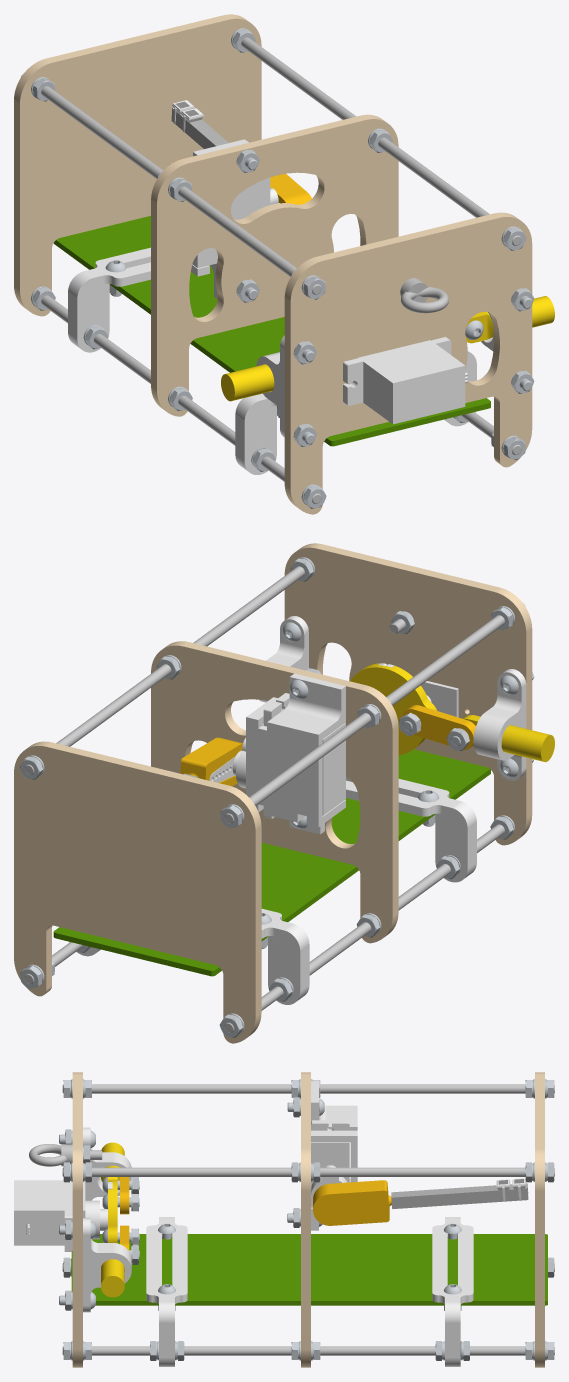
File: payload.gltf
The picture shows the model from 3 angles, top to bottom: view 1: azimuth 30°, elevation 25°; view 2: azimuth 150°, elevation 25°; view 3: azimuth 270°, elevation 25°; orthographic projection. The views are drawn at different scales.
Visible parts, largest first — view 1: Bottom Plate, Top Plate, Middle Plate, Corps principal (×2), PCB, Rod (×3), PCBMount V3 (×2), Release (×2), M3 Eye, Guide, Carbon Fiber Rod, Servo Rod Adapter; view 2: Bottom Plate, Top Plate, Middle Plate, PCB, Servo Clamp, Rod (×3), PCBMount V3 (×2), Guide (×2), Corps principal (×2), Base, Servo Rod Adapter, Release (+1 smaller); view 3: PCB, Rod (×3), PCBMount V3 (×2), Corps principal (×2), Top Plate, Servo Rod Adapter, Middle Plate, Bottom Plate, Guide (×2), Carbon Fiber Rod, Servo Clamp, M3 Eye (+3 smaller).
Boxes of the visible parts, left/top/right/bottom form: Bottom Plate: left=14, top=14, right=261, bottom=316; Top Plate: left=284, top=212, right=532, bottom=514; Middle Plate: left=151, top=114, right=398, bottom=416; Corps principal (×2): left=192, top=177, right=467, bottom=424; PCB: left=53, top=216, right=490, bottom=446; Rod (×3): left=41, top=37, right=521, bottom=503; PCBMount V3 (×2): left=68, top=247, right=476, bottom=474; Release (×2): left=221, top=296, right=554, bottom=401; M3 Eye: left=400, top=278, right=448, bottom=313; Guide: left=256, top=335, right=284, bottom=437; Carbon Fiber Rod: left=171, top=108, right=228, bottom=148; Servo Rod Adapter: left=270, top=173, right=311, bottom=204; Bottom Plate: left=14, top=741, right=261, bottom=1043; Top Plate: left=284, top=543, right=532, bottom=845; Middle Plate: left=151, top=641, right=398, bottom=943; PCB: left=53, top=749, right=490, bottom=976; Servo Clamp: left=246, top=673, right=345, bottom=834; Rod (×3): left=24, top=566, right=504, bottom=1032; PCBMount V3 (×2): left=76, top=777, right=476, bottom=1004; Guide (×2): left=259, top=616, right=526, bottom=780; Corps principal (×2): left=236, top=681, right=458, bottom=818; Base: left=350, top=663, right=436, bottom=755; Servo Rod Adapter: left=180, top=737, right=242, bottom=786; Release: left=463, top=715, right=554, bottom=762; PCB: left=71, top=1234, right=547, bottom=1305; Rod (×3): left=62, top=1084, right=554, bottom=1355; PCBMount V3 (×2): left=146, top=1217, right=473, bottom=1366; Corps principal (×2): left=14, top=1120, right=349, bottom=1251; Top Plate: left=72, top=1072, right=82, bottom=1367; Servo Rod Adapter: left=313, top=1180, right=391, bottom=1225; Middle Plate: left=301, top=1072, right=310, bottom=1367; Bottom Plate: left=535, top=1072, right=544, bottom=1367; Guide (×2): left=83, top=1127, right=131, bottom=1312; Carbon Fiber Rod: left=391, top=1183, right=528, bottom=1208; Servo Clamp: left=311, top=1081, right=357, bottom=1230; M3 Eye: left=29, top=1144, right=102, bottom=1166.
Bounding box in the file's own units: 0.0994 × 0.0746 × 0.1703.
